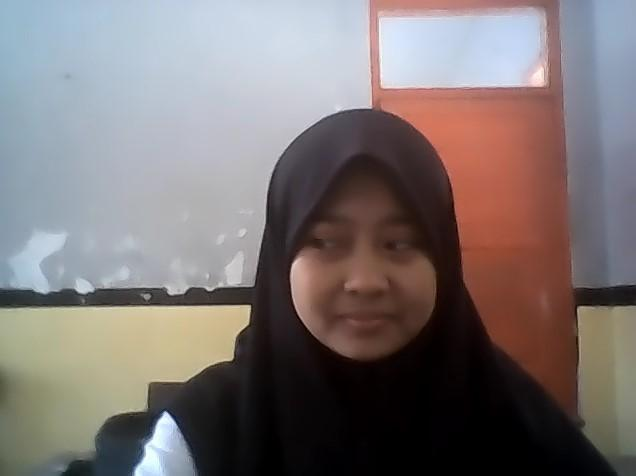cheating: (238, 94, 488, 406)
